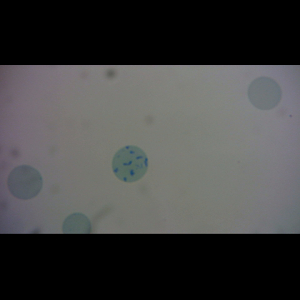aggregate reticulocyte: (111, 145, 149, 183)
erythrocyte: (246, 76, 282, 111)
punctate reticulocyte: (6, 165, 44, 201)
